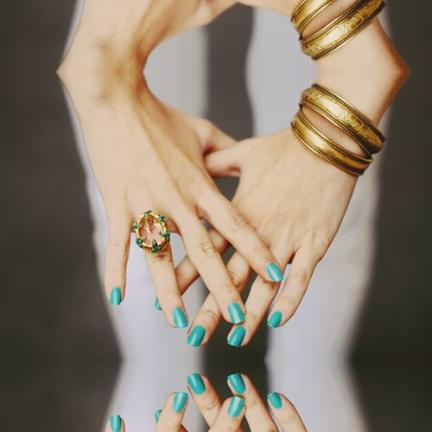Nail: (227, 325, 246, 348), (187, 372, 206, 395), (187, 325, 206, 347), (227, 372, 246, 394), (228, 301, 245, 324), (265, 261, 284, 281), (228, 396, 245, 418), (173, 306, 188, 330), (173, 390, 188, 413), (267, 310, 283, 328), (267, 391, 283, 409), (110, 286, 121, 305), (110, 414, 121, 432)
